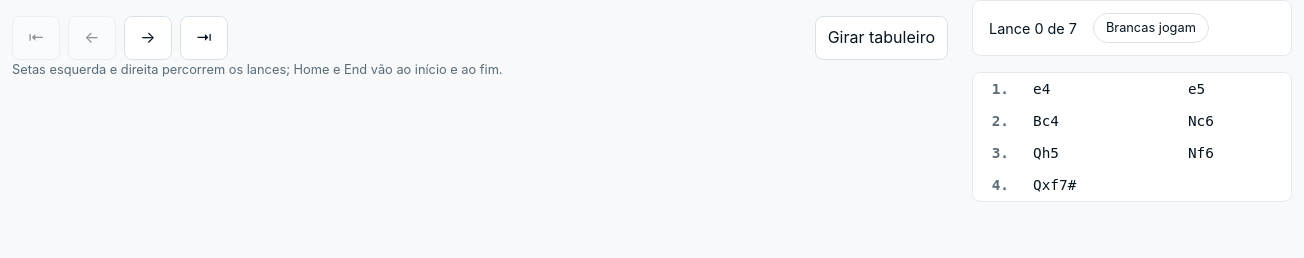
Scenario: GameViewer › vai ao último lance e anuncia o xeque-mate
The image size is (1304, 258).
Click the button named "Último lance" at [204, 38], box [180,16,228,60]
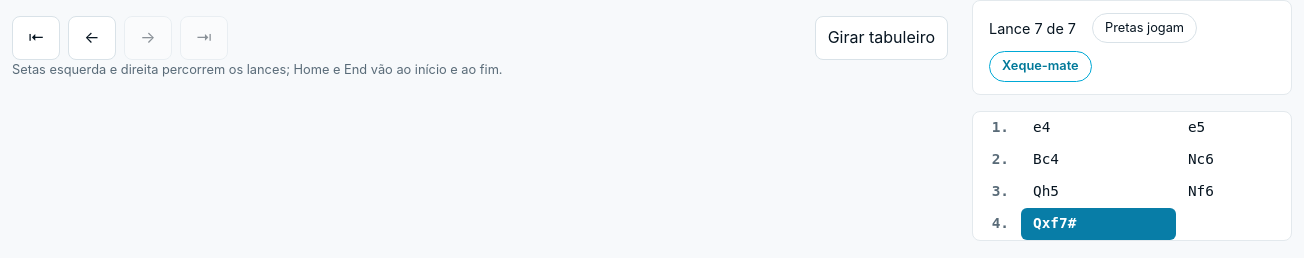
expect the text "Lance 7 de 7" is shown: met, box [989,17,1076,40]
expect the text "Xeque-mate" is shown: met, box [989,52,1092,82]
expect the button named "Próximo lance" is disabled: met, box [124,16,172,60]
